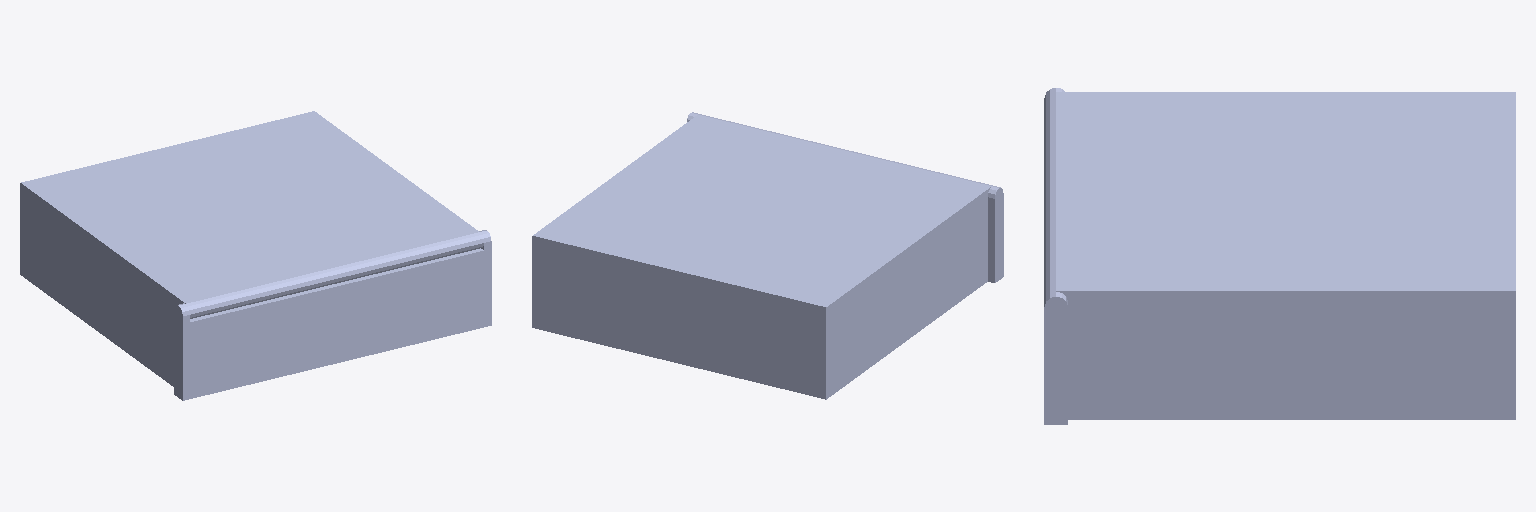
The robot description file, URDF, robot "pv_car":
<?xml version="1.0" encoding="utf-8"?>
<!-- This URDF was automatically created by SolidWorks to URDF Exporter! Originally created by [author] ([email redacted]) 
     Commit Version: 1.6.0-4-g7f85cfe  Build Version: 1.6.7995.38578
     For more information, please see http://wiki.ros.org/sw_urdf_exporter -->
<robot
  name="pv_car">
<!-- world link -->
  <link name="world"/>
  <joint name="joint_fix" type="fixed">
    <origin
      xyz="-0 -0 0.6"
      rpy="0 0 0" />
	<parent link="world"/>
	<child link="base_link"/>
  </joint>
  <link
    name="base_link">
    <inertial>
      <origin
        xyz="1 0.94721 -0.29987"
        rpy="0 0 0" />
      <mass
        value="2005.9" />
      <inertia
        ixx="713.82"
        ixy="7.671E-14"
        ixz="2.4162E-14"
        iyy="714.71"
        iyz="0.24973"
        izz="1344.8" />
    </inertial>
    <visual>
      <origin
        xyz="0 0 0"
        rpy="0 0 0" />
      <geometry>
        <mesh
          filename="package://pv_car/meshes/base_link.STL" />
      </geometry>
      <material
        name="">
        <color
          rgba="0.79216 0.81961 0.93333 1" />
      </material>
    </visual>
    <collision>
      <origin
        xyz="0 0 0"
        rpy="0 0 0" />
      <geometry>
        <mesh
          filename="package://pv_car/meshes/base_link.STL" />
      </geometry>
    </collision>
  </link>
  <link
    name="link1">
    <inertial>
      <origin
        xyz="1 0.95533 -4.4409E-16"
        rpy="0 0 0" />
      <mass
        value="397.85" />
      <inertia
        ixx="131.55"
        ixy="-1.7892E-14"
        ixz="-4.8208E-16"
        iyy="132.95"
        iyz="1.4924E-15"
        izz="263.84" />
    </inertial>
    <visual>
      <origin
        xyz="0 0 0"
        rpy="0 0 0" />
      <geometry>
        <mesh
          filename="package://pv_car/meshes/link1.STL" />
      </geometry>
      <material
        name="">
        <color
          rgba="0.79216 0.81961 0.93333 1" />
      </material>
    </visual>
    <collision>
      <origin
        xyz="0 0 0"
        rpy="0 0 0" />
      <geometry>
        <mesh
          filename="package://pv_car/meshes/link1.STL" />
      </geometry>
    </collision>
  </link>
  <joint
    name="joint1"
    type="revolute">
    <origin
      xyz="0 0 0"
      rpy="0 0 0" />
    <parent
      link="base_link" />
    <child
      link="link1" />
    <axis
      xyz="-1 0 0" />
    <limit
      lower="0"
      upper="0"
      effort="0"
      velocity="0" />
  </joint>
</robot>

--- What the picture shows (computed from the rendered views, not written in the file) ---
The picture shows the robot from 3 angles, left to right: view 1: azimuth 30°, elevation 25°; view 2: azimuth 150°, elevation 25°; view 3: azimuth 270°, elevation 25°; orthographic projection.
Model pv_car with 3 links and 2 joints (1 revolute, 1 fixed), rooted at world, posed every joint at zero.
Visible links, largest first — view 1: link1, base_link; view 2: link1, base_link; view 3: link1, base_link.
Link boxes in pixels (bbox=[...]): link1: bbox=[20, 111, 483, 318]; base_link: bbox=[20, 198, 491, 400]; link1: bbox=[532, 114, 992, 322]; base_link: bbox=[532, 112, 1003, 399]; link1: bbox=[1044, 92, 1515, 312]; base_link: bbox=[1044, 88, 1515, 424].
Size in the robot's own frame: 2.1 by 2 by 0.6 metres.
Meshes: 2 distinct files referenced, 2 mesh visuals loaded (2 binary STL).
